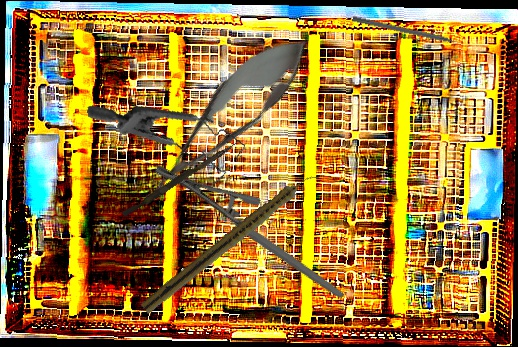Handpiece: (139, 166, 322, 318)
Micro Scissor: (121, 15, 327, 225)
Needle Holder: (151, 120, 345, 344)
Pusher: (121, 137, 239, 220), (351, 15, 471, 50)
Speculum: (86, 73, 252, 209)
